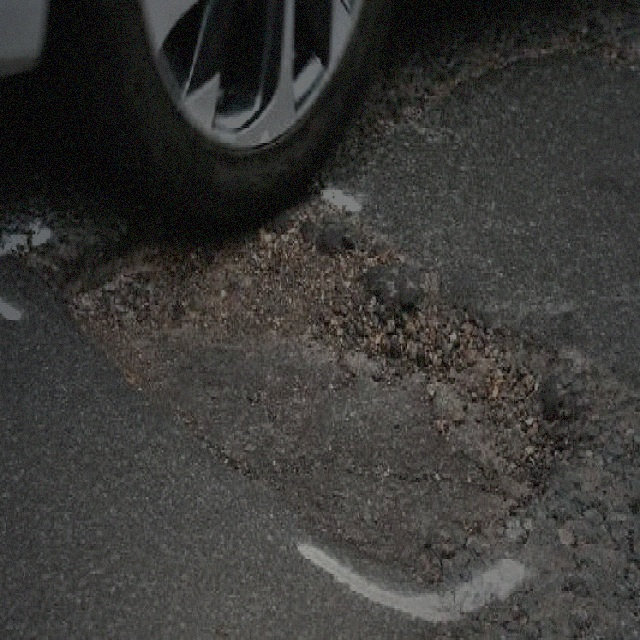pothole: (58, 196, 560, 521)
